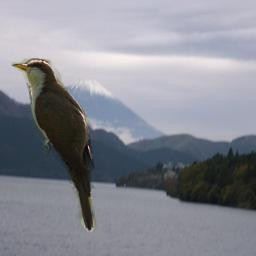Cuckoo: (11, 58, 99, 234)
